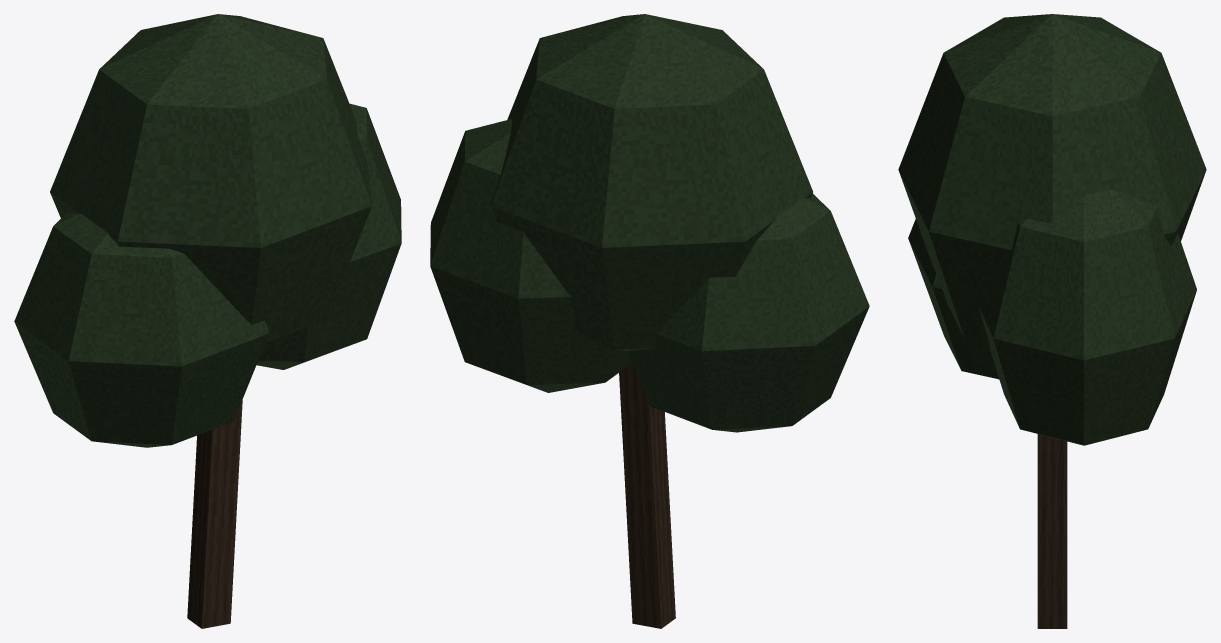
File: broadleaf.glb
3 renders of one model, left to right at view 1: azimuth 30°, elevation 25°; view 2: azimuth 150°, elevation 25°; view 3: azimuth 270°, elevation 25°, orthographic.
Visible parts, largest first — view 1: broadleaf; view 2: broadleaf; view 3: broadleaf.
Boxes of the visible parts, x1,y1,x2,y2 form: broadleaf: (14,14,401,628); broadleaf: (430,14,869,628); broadleaf: (898,14,1206,628).
Size of the model in its own units: 4.27 by 6.41 by 2.92.
1 material, 1 textured.
